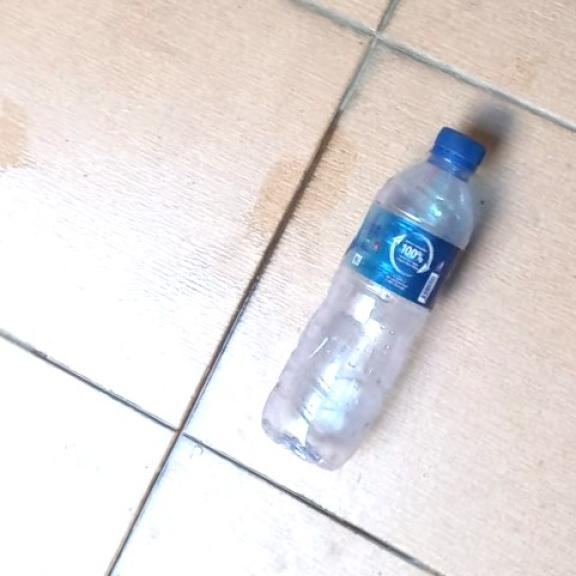Plastik: (259, 126, 485, 471)
